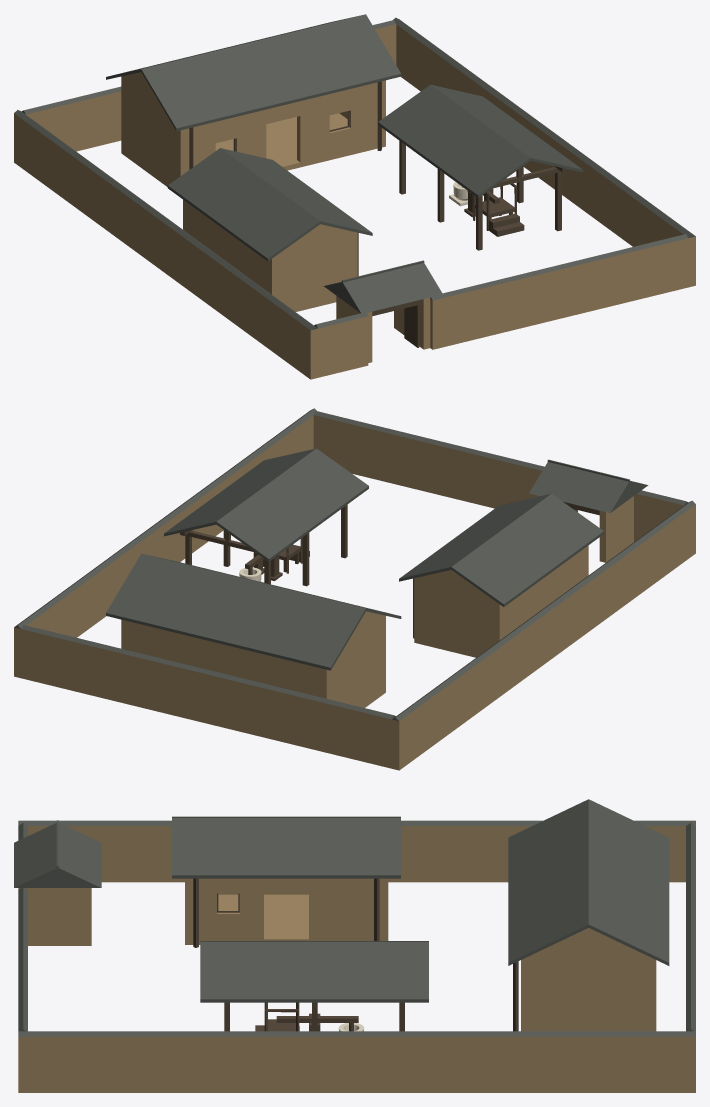
File: workyard-LOD2.glb
The picture shows the model from 3 angles, top to bottom: view 1: azimuth 30°, elevation 25°; view 2: azimuth 150°, elevation 25°; view 3: azimuth 270°, elevation 25°; orthographic projection. The views are drawn at different scales.
Visible parts, largest first — view 1: workyard_earth, workyard_tile, workyard_timber; view 2: workyard_earth, workyard_tile, workyard_timber; view 3: workyard_earth, workyard_tile, workyard_timber.
Boxes of the visible parts, box(x1,y1,x2,y2) form: workyard_earth: box(14, 24, 695, 379); workyard_tile: box(14, 14, 695, 330); workyard_timber: box(189, 81, 566, 347); workyard_earth: box(14, 415, 695, 770); workyard_tile: box(14, 408, 695, 721); workyard_timber: box(180, 502, 599, 638); workyard_earth: box(18, 826, 695, 1092); workyard_tile: box(14, 799, 695, 1036); workyard_timber: box(193, 878, 518, 1031).
Bounding box in the file's own units: 18 × 4.83 × 24.15.
